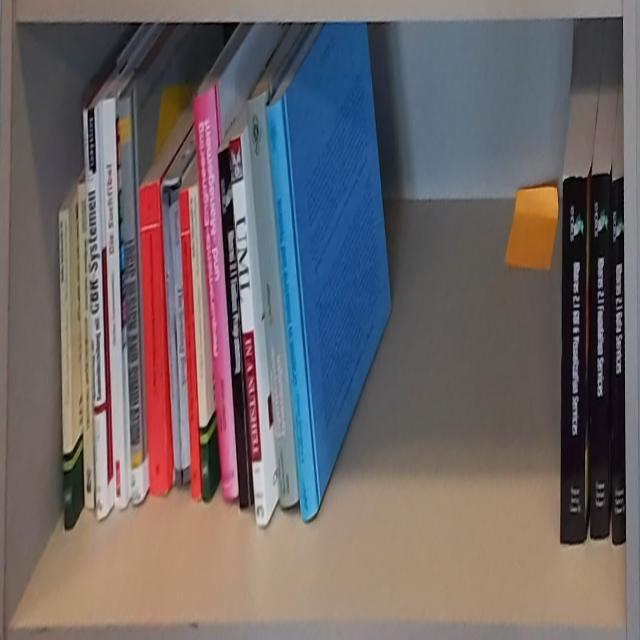Book Spine: (247, 90, 299, 508), (269, 100, 317, 521), (193, 90, 238, 502), (229, 134, 267, 529), (219, 148, 254, 510), (116, 99, 144, 505), (101, 100, 127, 510), (83, 110, 108, 521), (560, 175, 587, 546), (162, 178, 192, 486), (139, 181, 167, 494), (189, 185, 212, 503), (590, 175, 610, 540), (181, 190, 201, 503), (612, 174, 627, 547), (79, 184, 95, 509), (60, 211, 74, 531)
